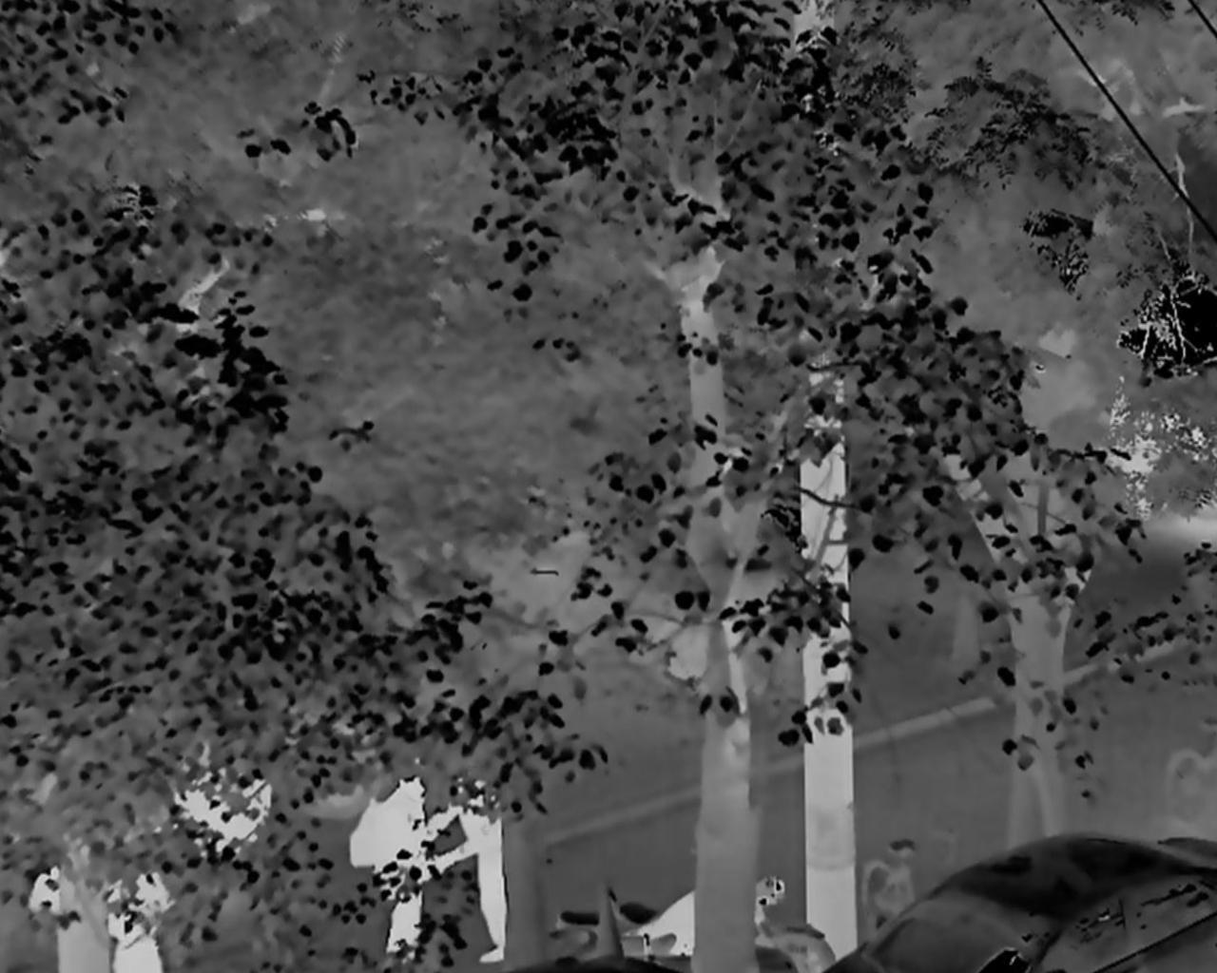person: (427, 765, 511, 973), (350, 772, 431, 973)
